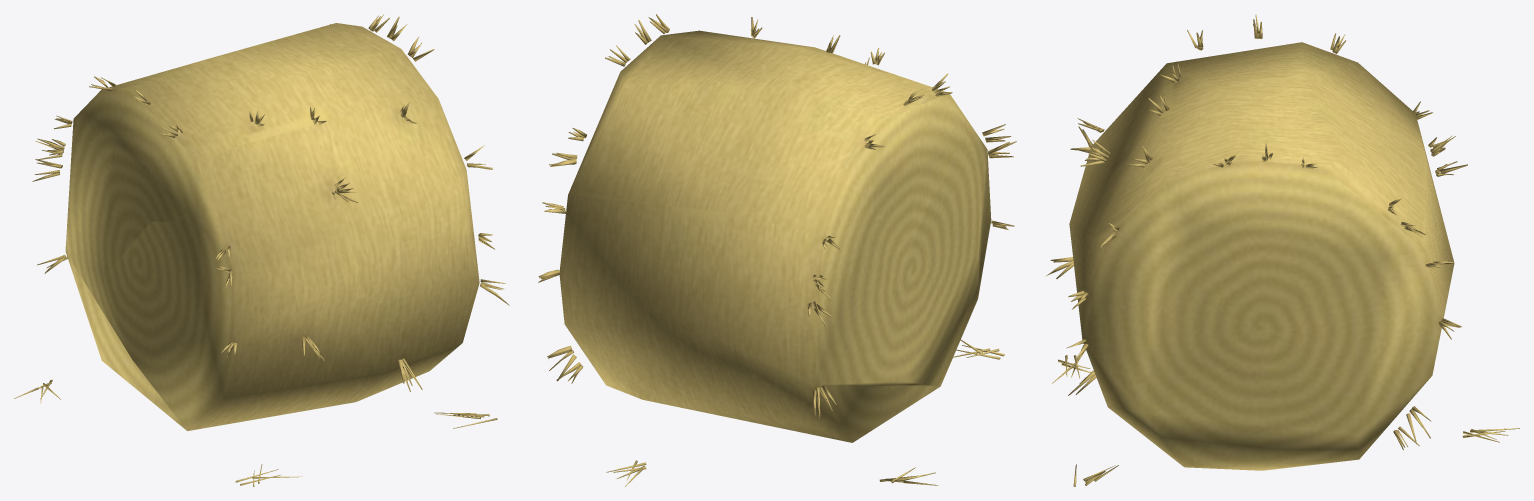
The model's file is hay-bale.glb.
3 views of the same model, side by side, from view 1: azimuth 30°, elevation 25°; view 2: azimuth 150°, elevation 25°; view 3: azimuth 270°, elevation 25° (orthographic). The views are drawn at different scales.
Visible parts, largest first — view 1: hay-bale_body; view 2: hay-bale_body; view 3: hay-bale_body.
Part boxes in pixels (box(x1,y1,x2,y2)): hay-bale_body: box(14, 14, 509, 486); hay-bale_body: box(538, 14, 1016, 486); hay-bale_body: box(1045, 14, 1519, 486).
Size of the model in its own units: 1.66 by 1.51 by 1.9.
1 material, 1 textured.
